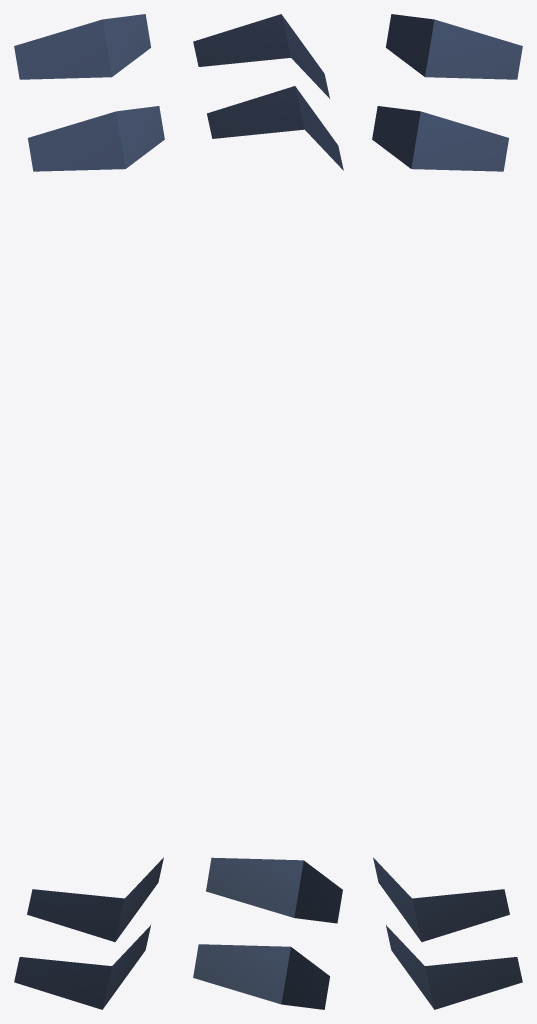
Rendered from shielda_1.obj.
The picture shows the model from 3 angles, left to right: view 1: azimuth 30°, elevation 25°; view 2: azimuth 150°, elevation 25°; view 3: azimuth 330°, elevation 25°; orthographic projection.
Parts seen in each view (by area): view 1: tape_01, tape_02, tape_04, tape_03; view 2: tape_04, tape_03, tape_02, tape_01; view 3: tape_01, tape_02, tape_04, tape_03.
Part boxes in pixels (box(x1,y1,x2,y2)): tape_01: box(14, 14, 150, 79); tape_02: box(28, 106, 164, 171); tape_04: box(14, 925, 150, 1009); tape_03: box(27, 857, 163, 941); tape_04: box(193, 944, 329, 1009); tape_03: box(206, 857, 342, 923); tape_02: box(207, 86, 343, 170); tape_01: box(193, 14, 329, 98); tape_01: box(386, 14, 522, 79); tape_02: box(372, 106, 508, 171); tape_04: box(386, 925, 522, 1009); tape_03: box(373, 857, 509, 941).
Size of the model in its own units: 53.79 by 387 by 32.45.
Materials: 1 (1 with a texture image).
